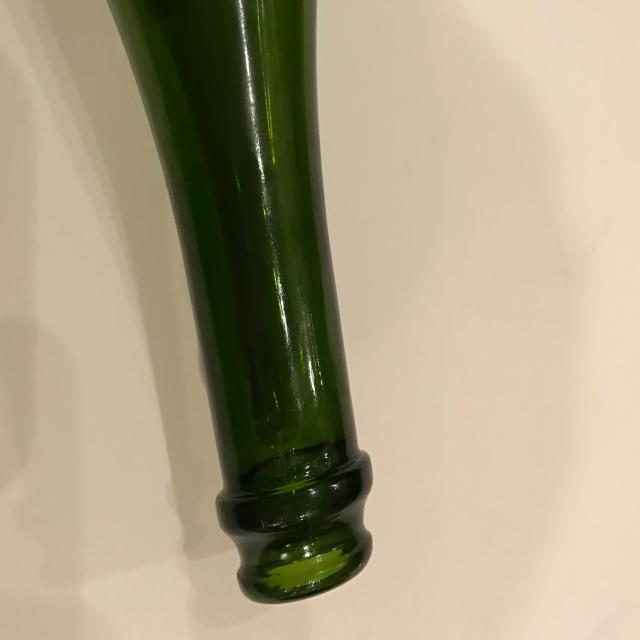Glass: (92, 0, 386, 621)
